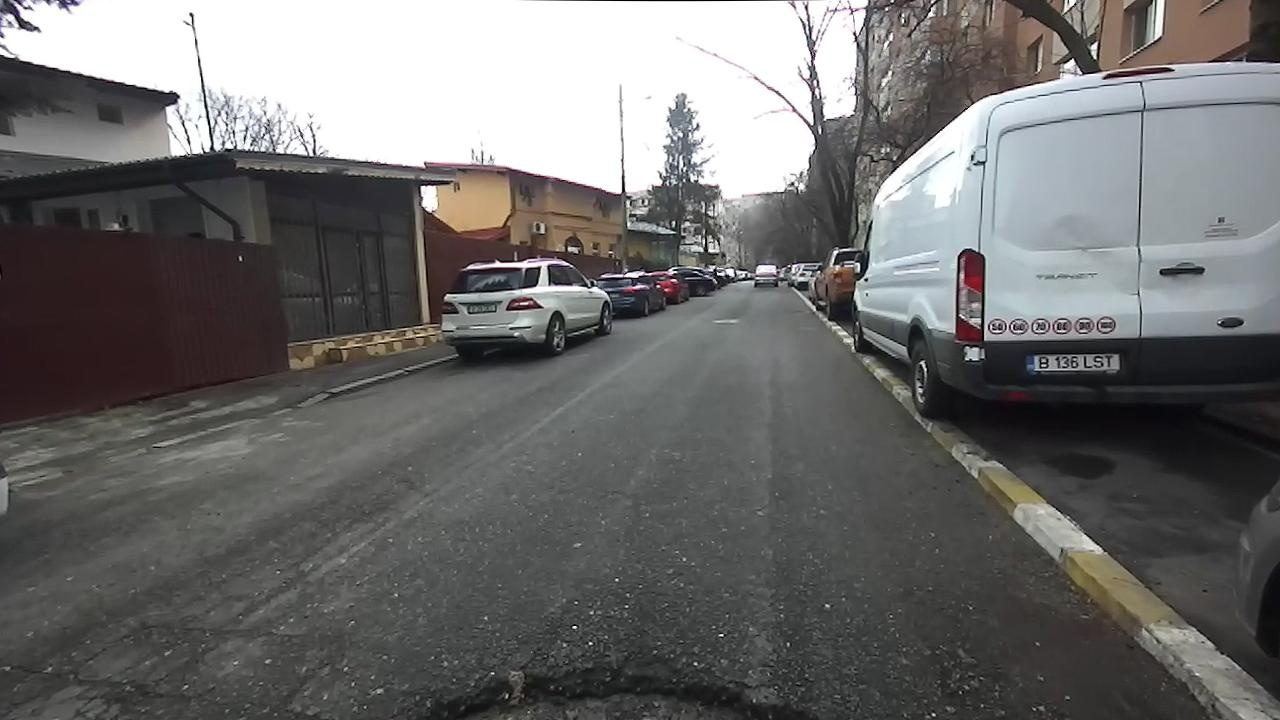pothole: (385, 657, 848, 719)
